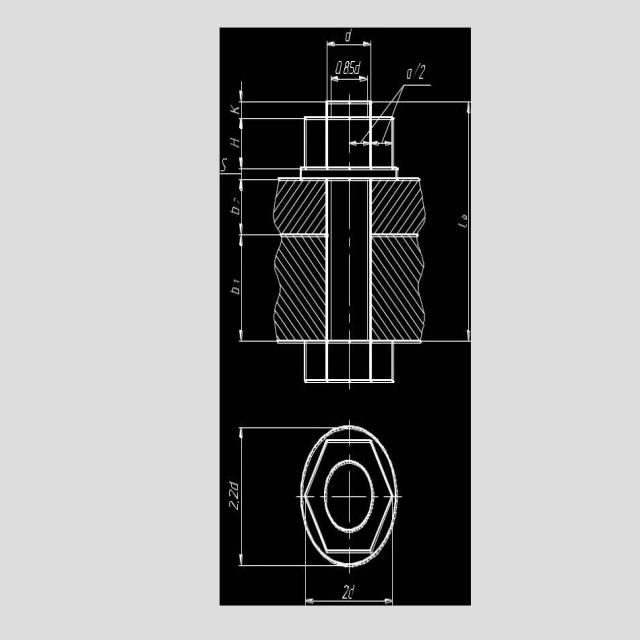marking_line: (464, 103, 471, 341), (238, 431, 245, 566), (308, 597, 395, 607), (238, 238, 245, 340), (237, 183, 245, 235), (329, 40, 370, 49), (239, 120, 247, 166), (331, 74, 367, 84), (238, 79, 247, 100), (372, 139, 392, 146), (350, 142, 369, 147)
numeric: (335, 59, 357, 78), (227, 490, 240, 511)
